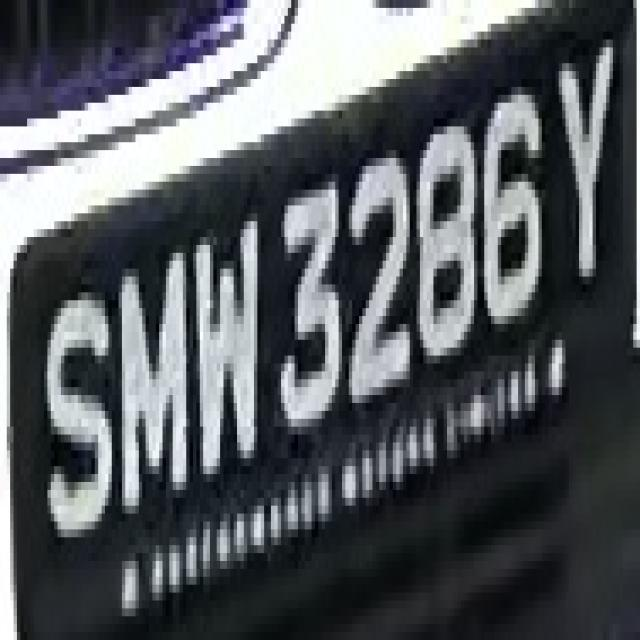2: (339, 166, 420, 411)
3: (274, 150, 339, 435)
6: (474, 63, 549, 340)
8: (403, 95, 481, 387)
M: (115, 261, 203, 529)
S: (37, 277, 119, 561)
W: (183, 197, 261, 490)
Y: (552, 32, 626, 308)
